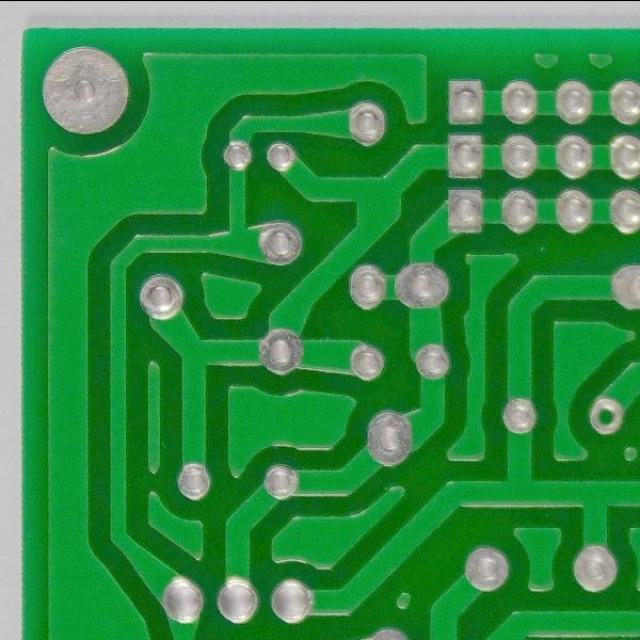Missing_Hole: (582, 392, 632, 440)
